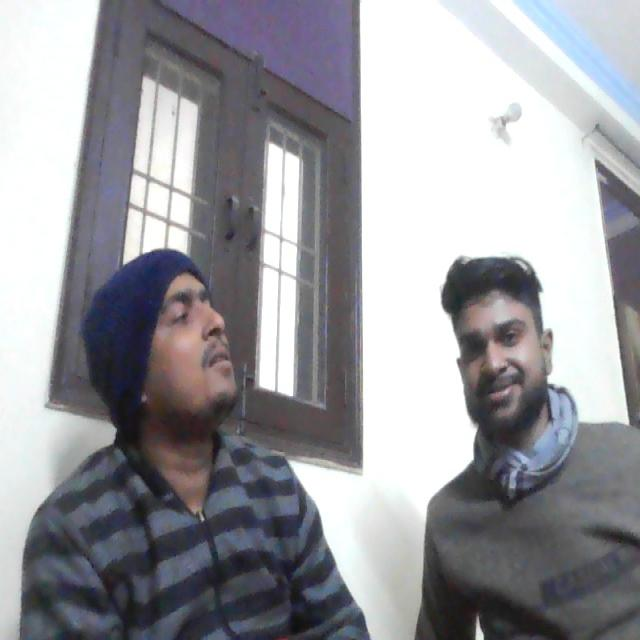real: (128, 210, 246, 433), (450, 247, 547, 429)
